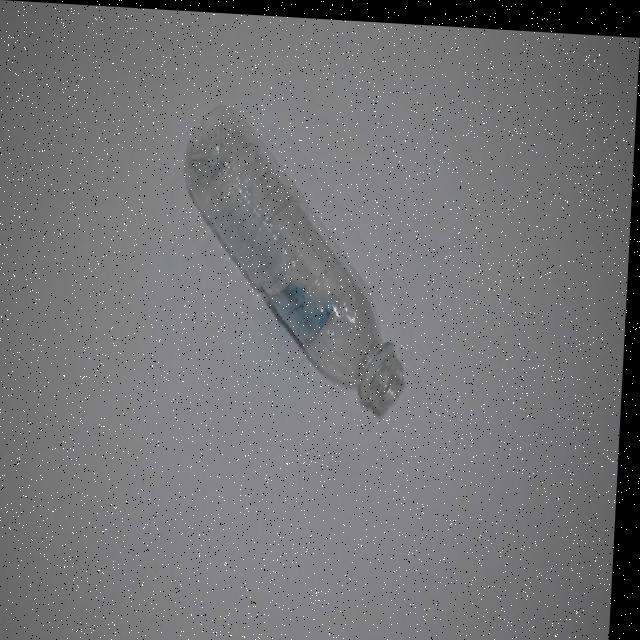plasticbottle: (160, 61, 430, 463)
